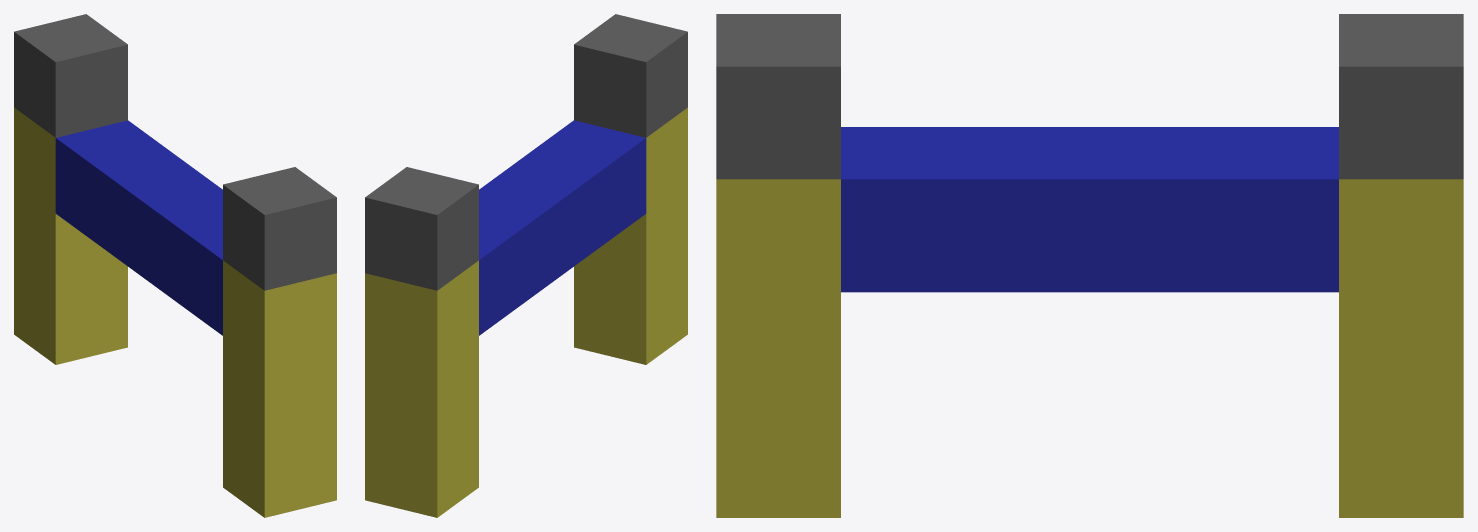
File: blue.obj
The picture shows the model from 3 angles, left to right: view 1: azimuth 30°, elevation 25°; view 2: azimuth 150°, elevation 25°; view 3: azimuth 270°, elevation 25°; orthographic projection. The views are drawn at different scales.
Size of the model in its own units: 0.1 by 0.4 by 0.6.
1 material, 1 textured.
